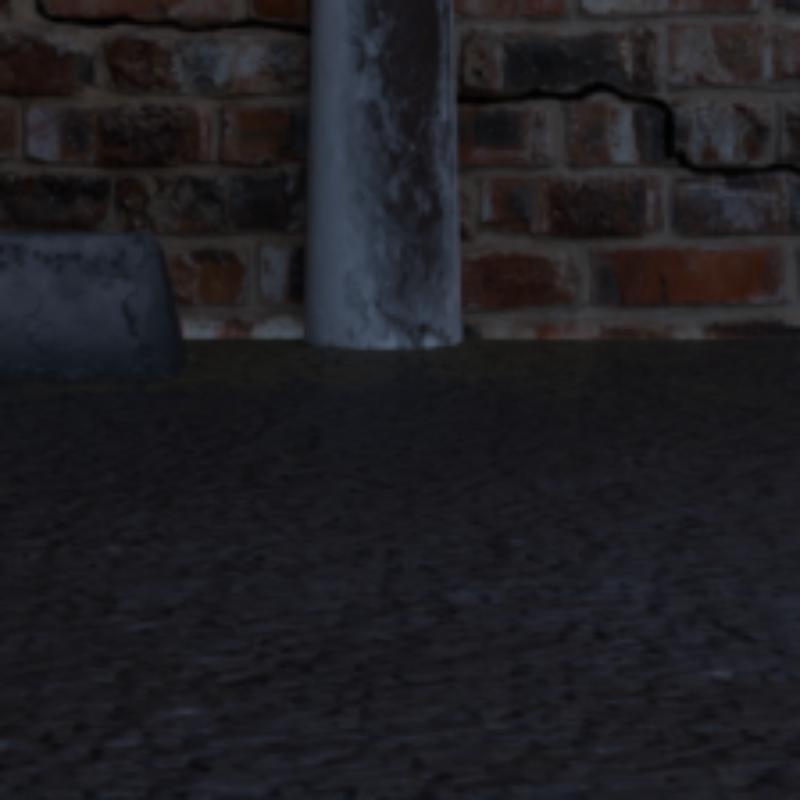crack: (457, 82, 796, 171), (139, 18, 307, 36), (36, 0, 139, 21)
